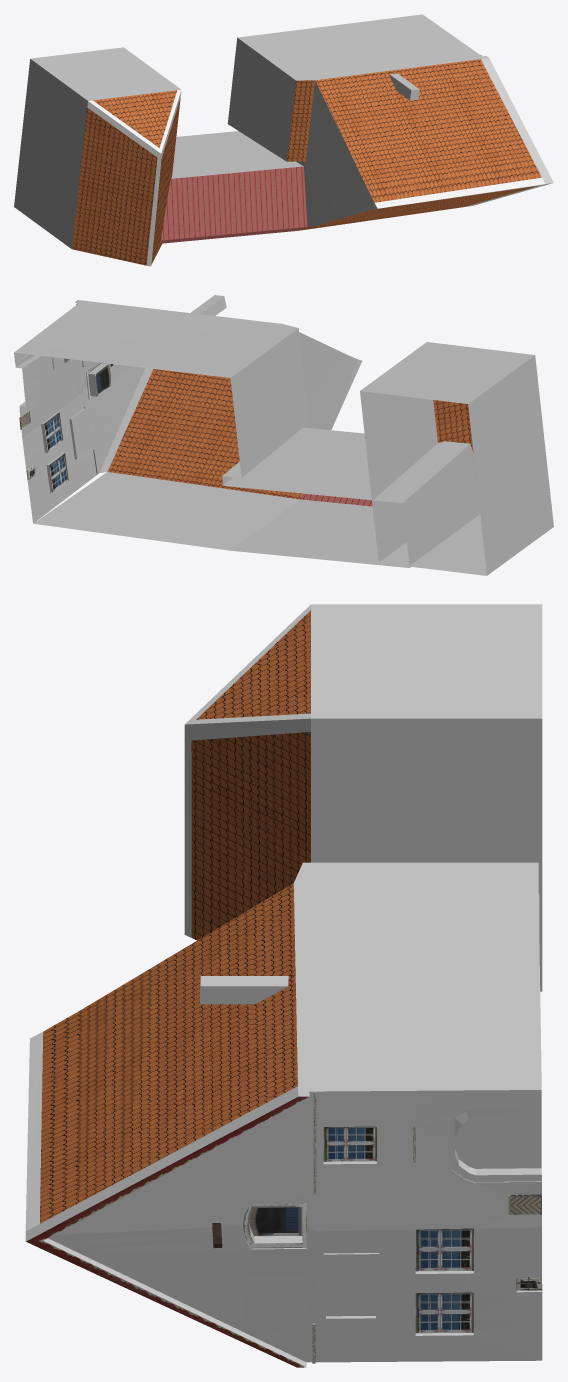
File: Ryytli12_res.obj
3 renders of one model, top to bottom at view 1: azimuth 30°, elevation 25°; view 2: azimuth 150°, elevation 25°; view 3: azimuth 270°, elevation 25°, orthographic. The views are drawn at different scales.
Parts seen in each view (by area): view 1: Ryytli12; view 2: Ryytli12; view 3: Ryytli12.
Boxes of the visible parts, <box> form: Ryytli12: <box>14,14,553,266</box>; Ryytli12: <box>14,295,553,575</box>; Ryytli12: <box>25,604,542,1367</box>.
Size of the model in its own units: 30.81 by 13.6 by 16.29.
